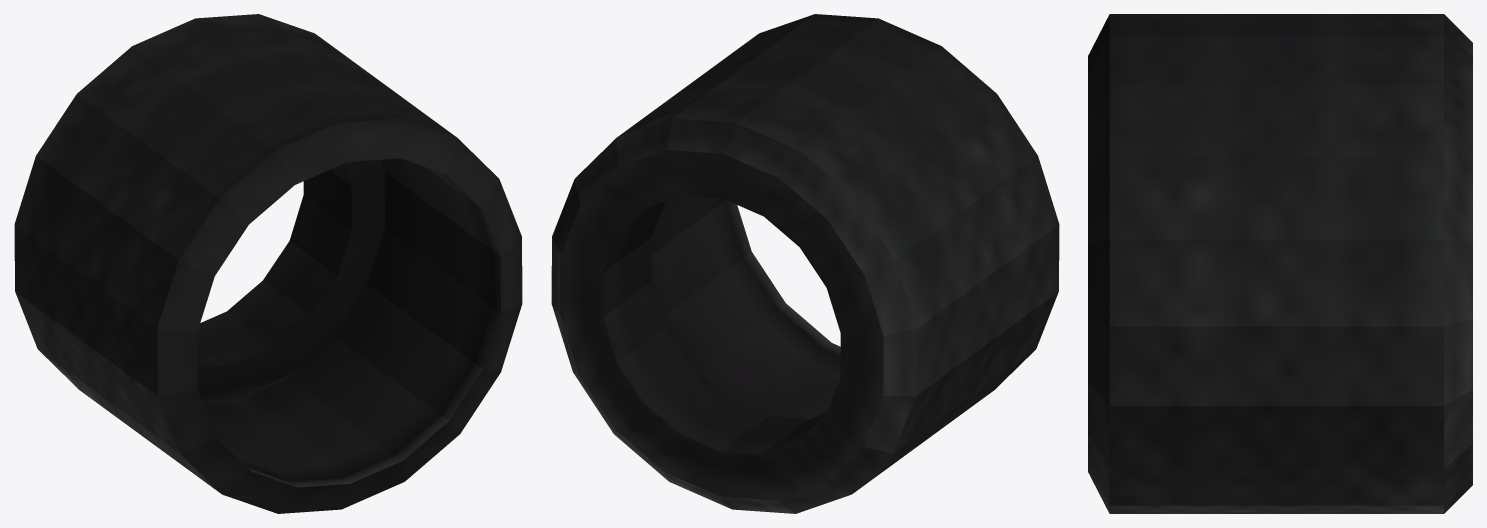
3 renders of one model, left to right at view 1: azimuth 30°, elevation 25°; view 2: azimuth 150°, elevation 25°; view 3: azimuth 270°, elevation 25°, orthographic. The views are drawn at different scales.
Parts seen in each view (by area): view 1: TW_587de5ba2459771c0f1e8a58_PZ_Import; view 2: TW_587de5ba2459771c0f1e8a58_PZ_Import; view 3: TW_587de5ba2459771c0f1e8a58_PZ_Import.
Boxes of the visible parts, left/top/right/bottom form: TW_587de5ba2459771c0f1e8a58_PZ_Import: left=14, top=14, right=522, bottom=513; TW_587de5ba2459771c0f1e8a58_PZ_Import: left=551, top=14, right=1059, bottom=513; TW_587de5ba2459771c0f1e8a58_PZ_Import: left=1088, top=14, right=1472, bottom=513.
Bounding box in the file's own units: 0.00814 × 0.00633 × 0.00825.
1 material, 1 textured.
